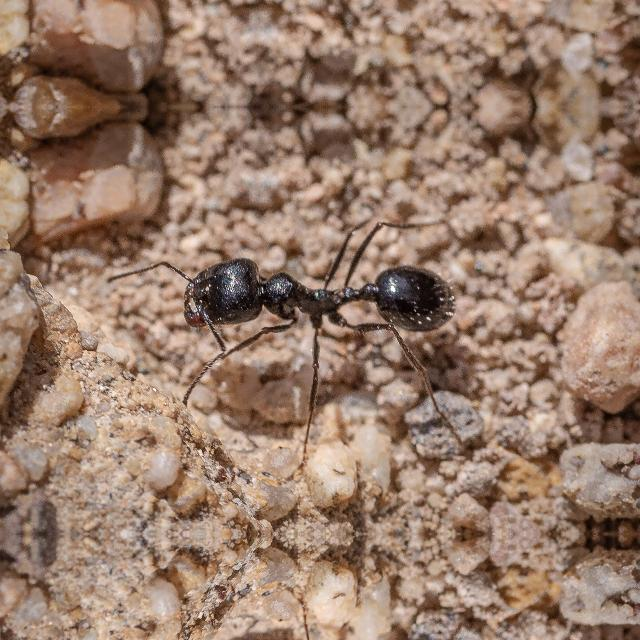Messor: (187, 229, 461, 383)
